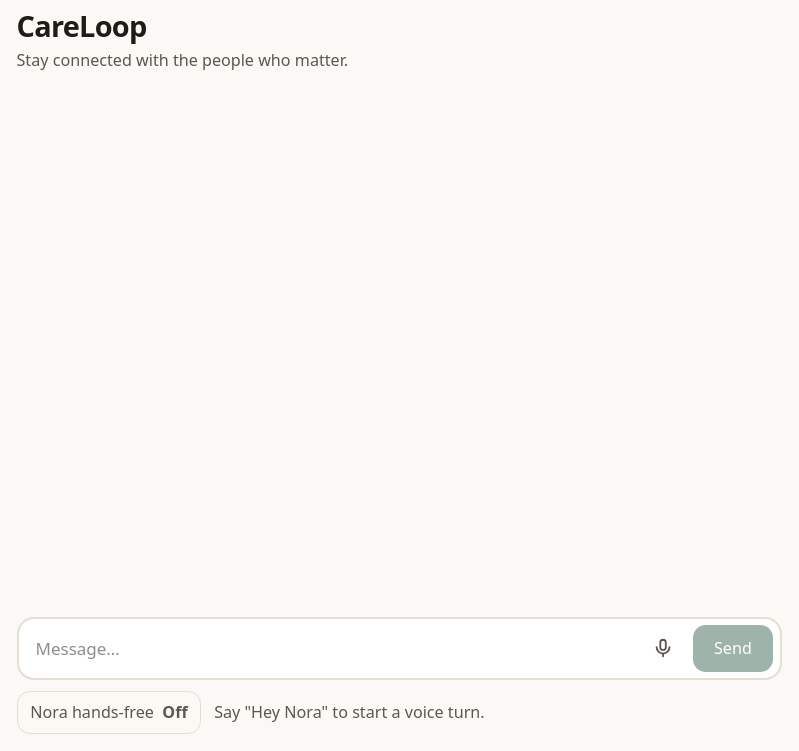
1. the watcher exists only for a wake turn › a PRESSED microphone starts none — push-to-talk is untouched
Check: the switch labelled "Nora hands-free Off" is shown, box [16,691,201,734]
Click the button named "start voice input". click: click(663, 648)
box: [640,625,686,672]
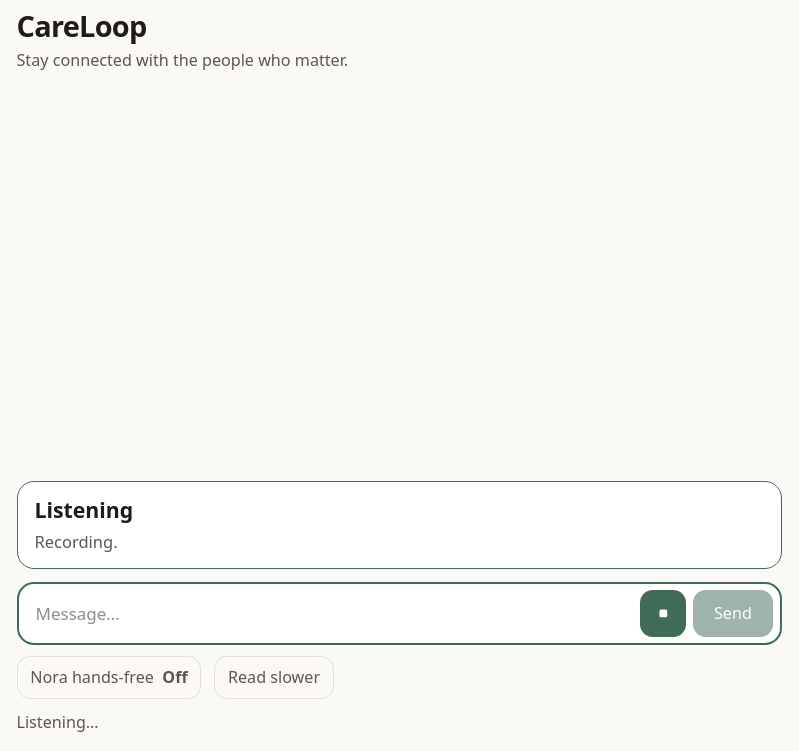
Check: the button named "stop recording" is shown, box [640,590,686,637]
